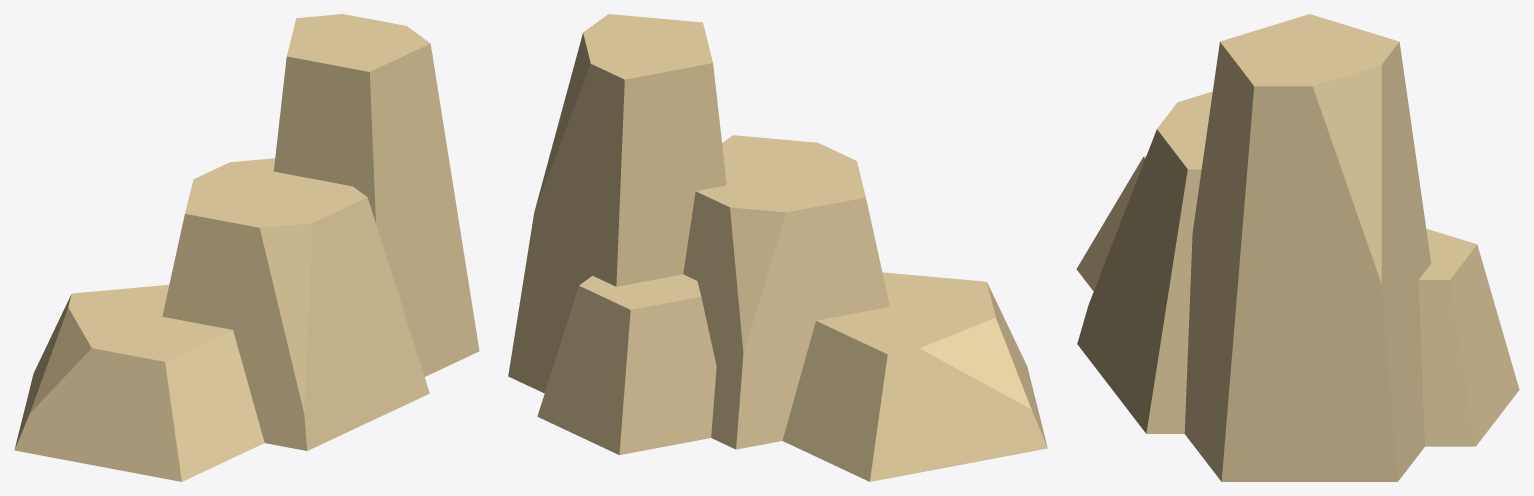
The model's file is survival-rock.glb.
The picture shows the model from 3 angles, left to right: view 1: azimuth 30°, elevation 25°; view 2: azimuth 150°, elevation 25°; view 3: azimuth 270°, elevation 25°; orthographic projection. The views are drawn at different scales.
Visible parts, largest first — view 1: rockC; view 2: rockC; view 3: rockC.
Boxes of the visible parts, <box> form: rockC: <box>14,14,479,481</box>; rockC: <box>508,14,1047,481</box>; rockC: <box>1076,14,1519,481</box>.
Size of the model in its own units: 0.7837 by 0.51 by 0.5468.
